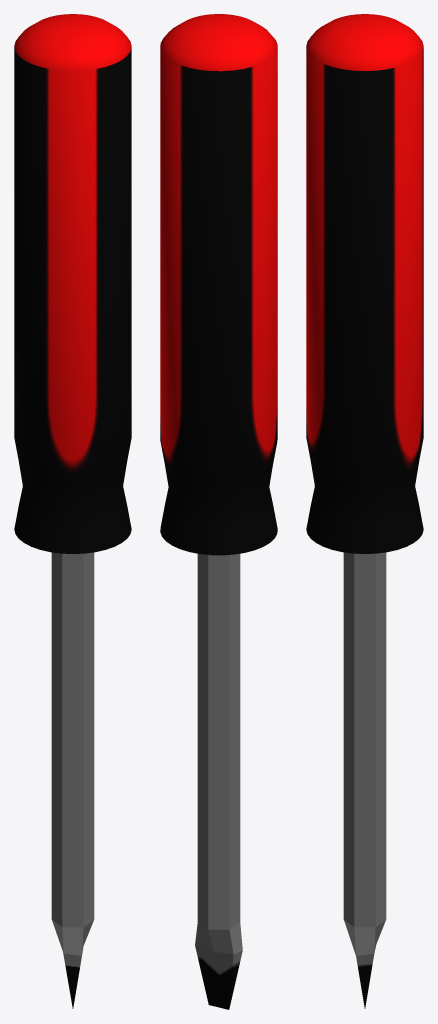
Rendered from screwdriver.fbx.
3 renders of one model, left to right at view 1: azimuth 90°, elevation 25°; view 2: azimuth 150°, elevation 25°; view 3: azimuth 270°, elevation 25°, orthographic.
Visible parts, largest first — view 1: handle, kernel; view 2: handle, kernel; view 3: handle, kernel.
Part boxes in pixels (x1=…): handle: x1=14, y1=14, x2=131, y2=553; kernel: x1=51, y1=552, x2=94, y2=1008; handle: x1=160, y1=14, x2=277, y2=555; kernel: x1=195, y1=553, x2=242, y2=1009; handle: x1=306, y1=14, x2=423, y2=553; kernel: x1=343, y1=552, x2=386, y2=1008.
Bounding box in the file's own units: 13.52 × 125 × 13.52.
Materials: 1 (1 with a texture image).
